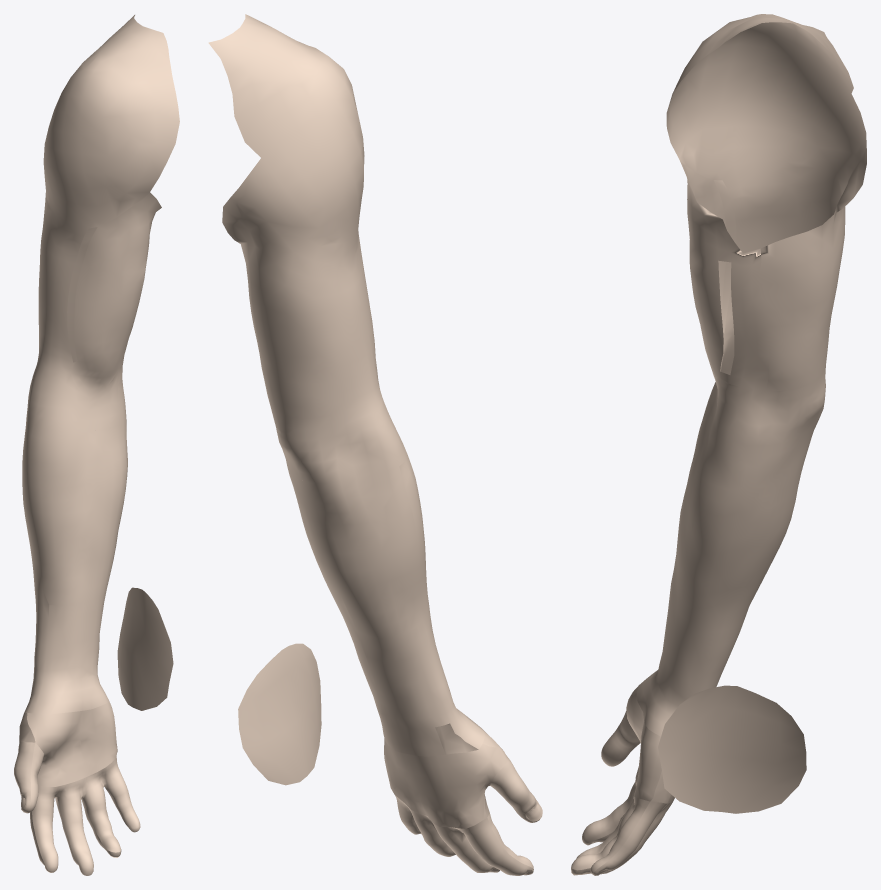
File: lod1-arm-right-skin.glb
3 views of the same model, side by side, from view 1: azimuth 30°, elevation 25°; view 2: azimuth 150°, elevation 25°; view 3: azimuth 270°, elevation 25° (orthographic). The views are drawn at different scales.
Visible parts, largest first — view 1: part::Deltoid region.r, part::Anterior region of forearm.r, part::Anterior region of arm.r, part::Palmar surfaces of digits of hand.r, part::Palm.r, part::Hip region.r, part::Anterior region of elbow.r, part::Anterior region of wrist.r, part::Posterior region of arm.r, part::Dorsal surfaces of digits of hand.r, part::Lateral border of forearm.r, part::Lateral bicipital groove.r (+2 smaller); view 2: part::Posterior region of arm.r, part::Posterior region of forearm.r, part::Deltoid region.r, part::Hip region.r, part::Posterior region of elbow.r, part::Dorsum of hand.r, part::Dorsal surfaces of digits of hand.r, part::Posterior region of wrist.r, part::Anterior region of arm.r, part::Lateral border of forearm.r, part::Palm.r, part::Anterior region of forearm.r (+1 smaller); view 3: part::Deltoid region.r, part::Posterior region of arm.r, part::Hip region.r, part::Anterior region of arm.r, part::Anterior region of forearm.r, part::Posterior region of forearm.r, part::Anterior region of elbow.r, part::Palmar surfaces of digits of hand.r, part::Posterior region of elbow.r, part::Medial border of forearm.r, part::Palm.r, part::Dorsal surfaces of digits of hand.r (+2 smaller).
Boxes of the visible parts, x1,y1,x2,y2 form: part::Deltoid region.r: (43, 15, 179, 228); part::Anterior region of forearm.r: (30, 418, 127, 683); part::Anterior region of arm.r: (42, 192, 161, 371); part::Palmar surfaces of digits of hand.r: (28, 743, 140, 875); part::Palm.r: (27, 701, 117, 786); part::Hip region.r: (117, 587, 173, 710); part::Anterior region of elbow.r: (28, 359, 126, 431); part::Anterior region of wrist.r: (27, 675, 108, 714); part::Posterior region of arm.r: (38, 192, 57, 359); part::Dorsal surfaces of digits of hand.r: (14, 741, 128, 875); part::Lateral border of forearm.r: (24, 421, 43, 670); part::Lateral bicipital groove.r: (67, 227, 97, 362); part::Posterior region of arm.r: (222, 158, 375, 418); part::Posterior region of forearm.r: (287, 466, 458, 728); part::Deltoid region.r: (208, 14, 364, 243); part::Hip region.r: (238, 643, 321, 785); part::Posterior region of elbow.r: (271, 399, 398, 483); part::Dorsum of hand.r: (384, 738, 507, 828); part::Dorsal surfaces of digits of hand.r: (395, 755, 542, 875); part::Posterior region of wrist.r: (380, 717, 482, 756); part::Anterior region of arm.r: (349, 229, 380, 399); part::Lateral border of forearm.r: (399, 461, 453, 709); part::Palm.r: (435, 724, 502, 817); part::Anterior region of forearm.r: (406, 455, 458, 716); part::Deltoid region.r: (666, 14, 853, 180); part::Posterior region of arm.r: (759, 94, 866, 390); part::Hip region.r: (658, 685, 806, 813); part::Anterior region of arm.r: (679, 159, 770, 389); part::Anterior region of forearm.r: (657, 402, 746, 706); part::Posterior region of forearm.r: (698, 431, 813, 692); part::Anterior region of elbow.r: (706, 333, 766, 458); part::Palmar surfaces of digits of hand.r: (571, 710, 649, 873); part::Posterior region of elbow.r: (757, 365, 825, 457); part::Medial border of forearm.r: (687, 457, 757, 698); part::Palm.r: (626, 685, 661, 801); part::Dorsal surfaces of digits of hand.r: (571, 742, 674, 875).
Size of the model in its own units: 0.2047 by 0.7376 by 0.2113.
